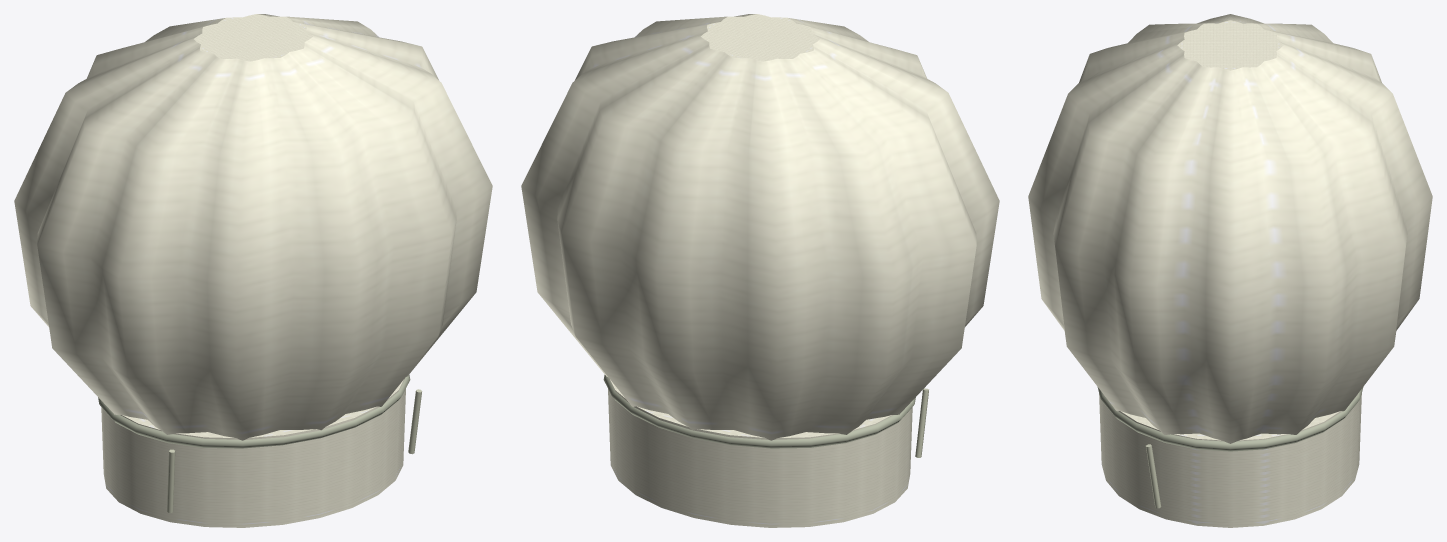
Rendered from chef_hat.obj.
3 views of the same model, side by side, from view 1: azimuth 30°, elevation 25°; view 2: azimuth 150°, elevation 25°; view 3: azimuth 270°, elevation 25° (orthographic). The views are drawn at different scales.
Parts seen in each view (by area): view 1: B_SoftGatheredCrown.001_chef_hat_linen, A_StiffBand.001_chef_hat_linen, C_BandSeam.001_chef_hat_seam; view 2: B_SoftGatheredCrown.001_chef_hat_linen, A_StiffBand.001_chef_hat_linen, C_BandSeam.001_chef_hat_seam; view 3: B_SoftGatheredCrown.001_chef_hat_linen, A_StiffBand.001_chef_hat_linen, C_BandSeam.001_chef_hat_seam.
Part boxes in pixels (x1,y1,x2,y2): B_SoftGatheredCrown.001_chef_hat_linen: (14,14,492,440); A_StiffBand.001_chef_hat_linen: (101,378,405,527); C_BandSeam.001_chef_hat_seam: (98,374,410,448); B_SoftGatheredCrown.001_chef_hat_linen: (521,14,999,440); A_StiffBand.001_chef_hat_linen: (608,378,912,527); C_BandSeam.001_chef_hat_seam: (603,374,915,448); B_SoftGatheredCrown.001_chef_hat_linen: (1028,14,1432,443); A_StiffBand.001_chef_hat_linen: (1099,393,1361,527); C_BandSeam.001_chef_hat_seam: (1097,387,1363,451).
Bounding box in the file's own units: 1.54 × 1.47 × 1.29.
3 materials, 1 textured.
